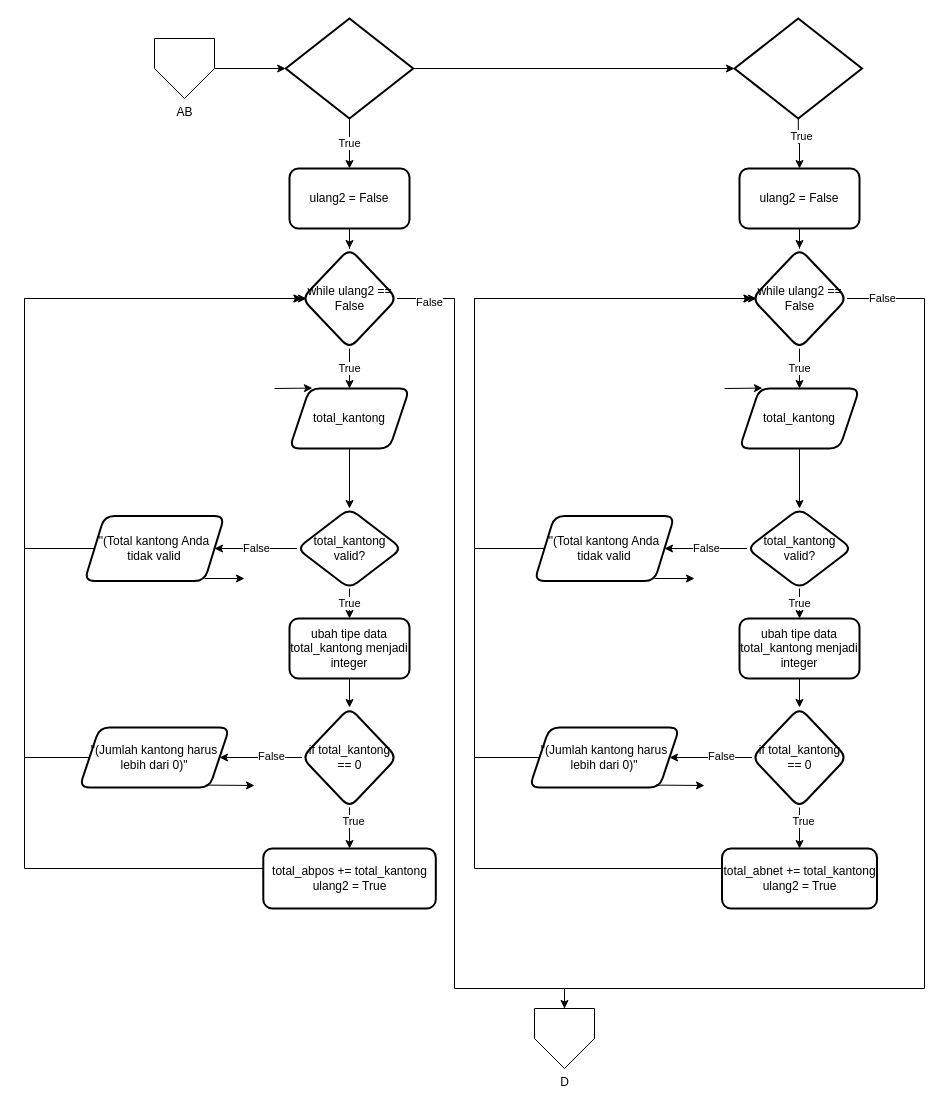
The diagram is 950 pixels wide and 1106 high, and some of its shapes have lost their labels. The centre of each missing label's shape, as x and y in pixels:
else if rhesus == "-": [797,68]
if rhesus == "+": [349,68]
